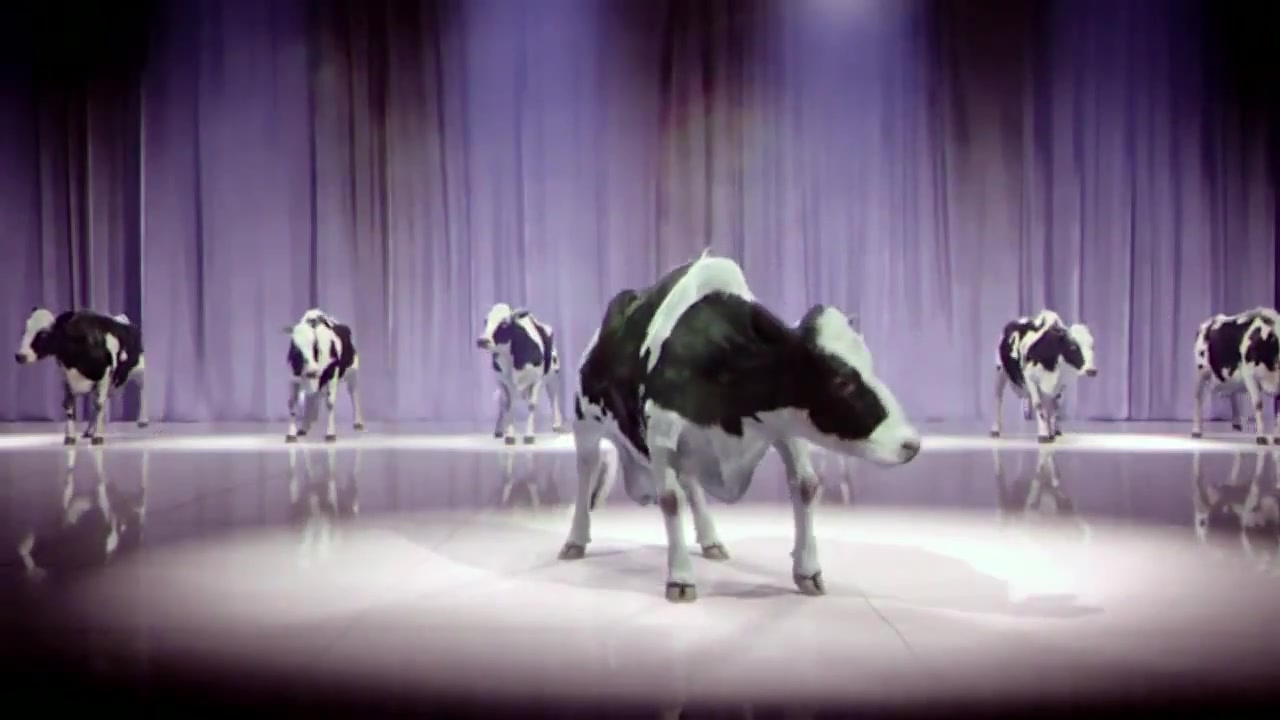cow: (548, 253, 925, 603)
